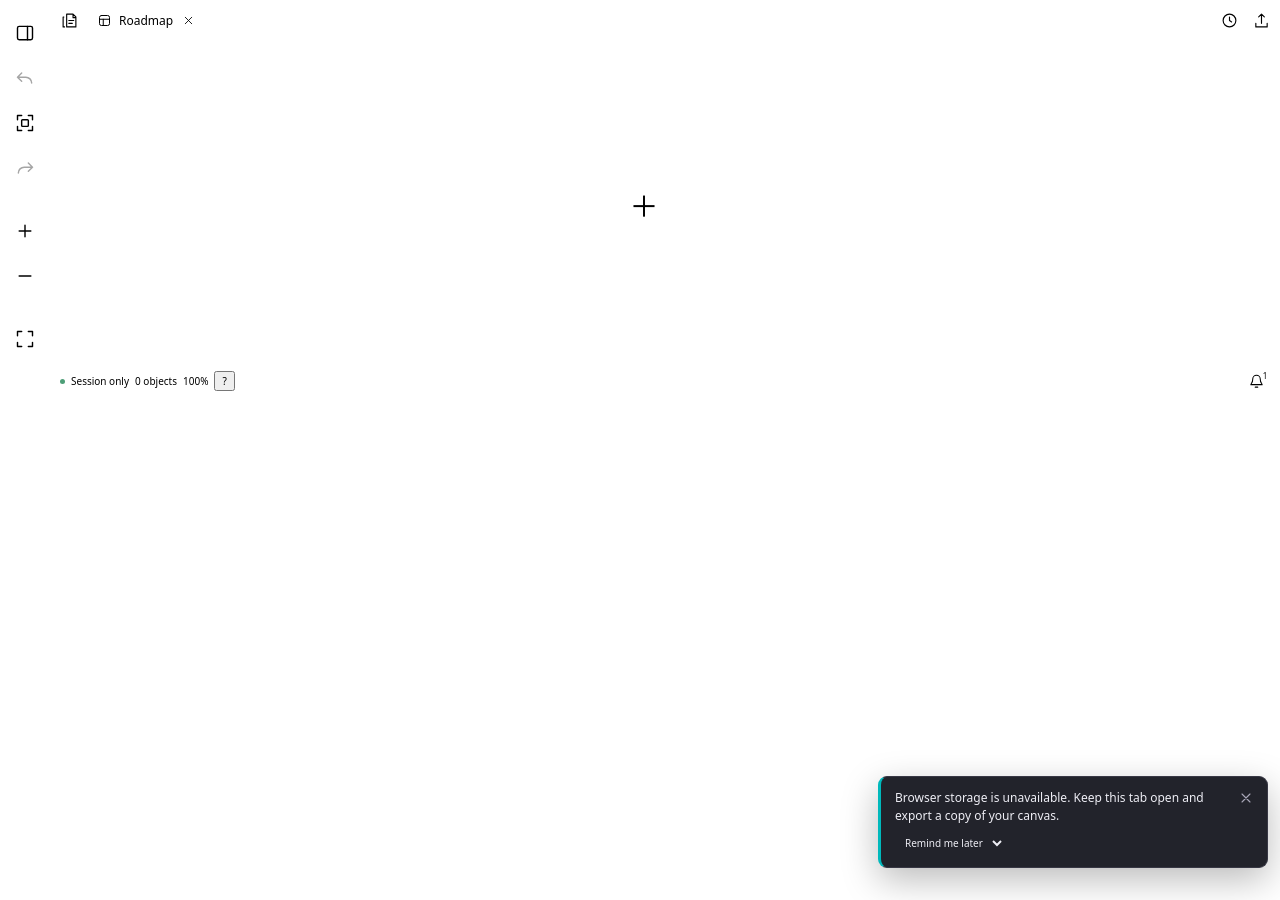
smart physical file saving in the workspace › keeps Save options available before a file destination exists and removes redundant toolbar icons
Check: the tab "Roadmap" is shown, box x1=92 y1=0 x2=178 y2=42
Click the button named "Open right panel".
click(25, 33)  # box x1=6 y1=14 x2=44 y2=52
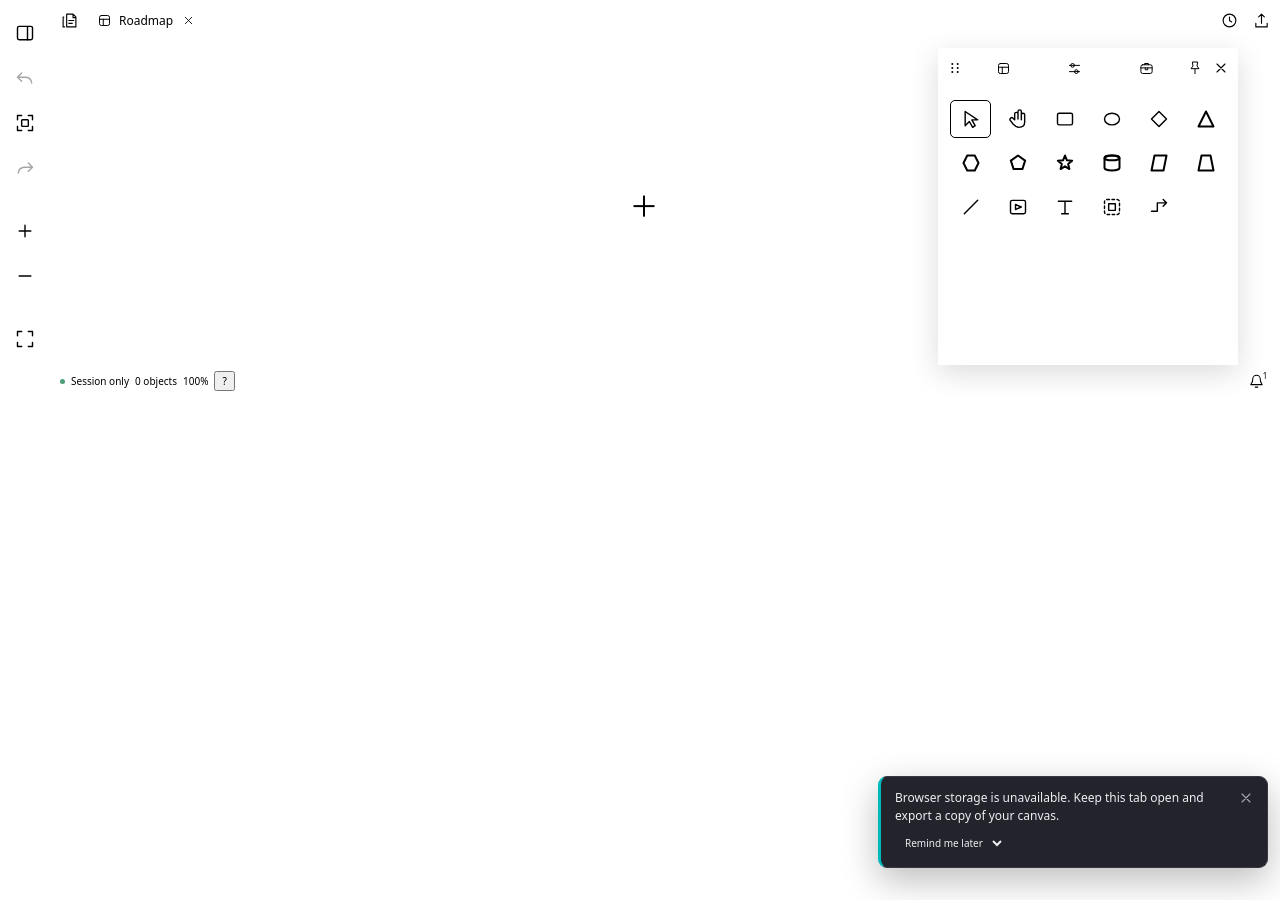
Check: the button "Save" is not shown
Click the button named "Save options".
click(1229, 20)  # box x1=1214 y1=5 x2=1244 y2=35
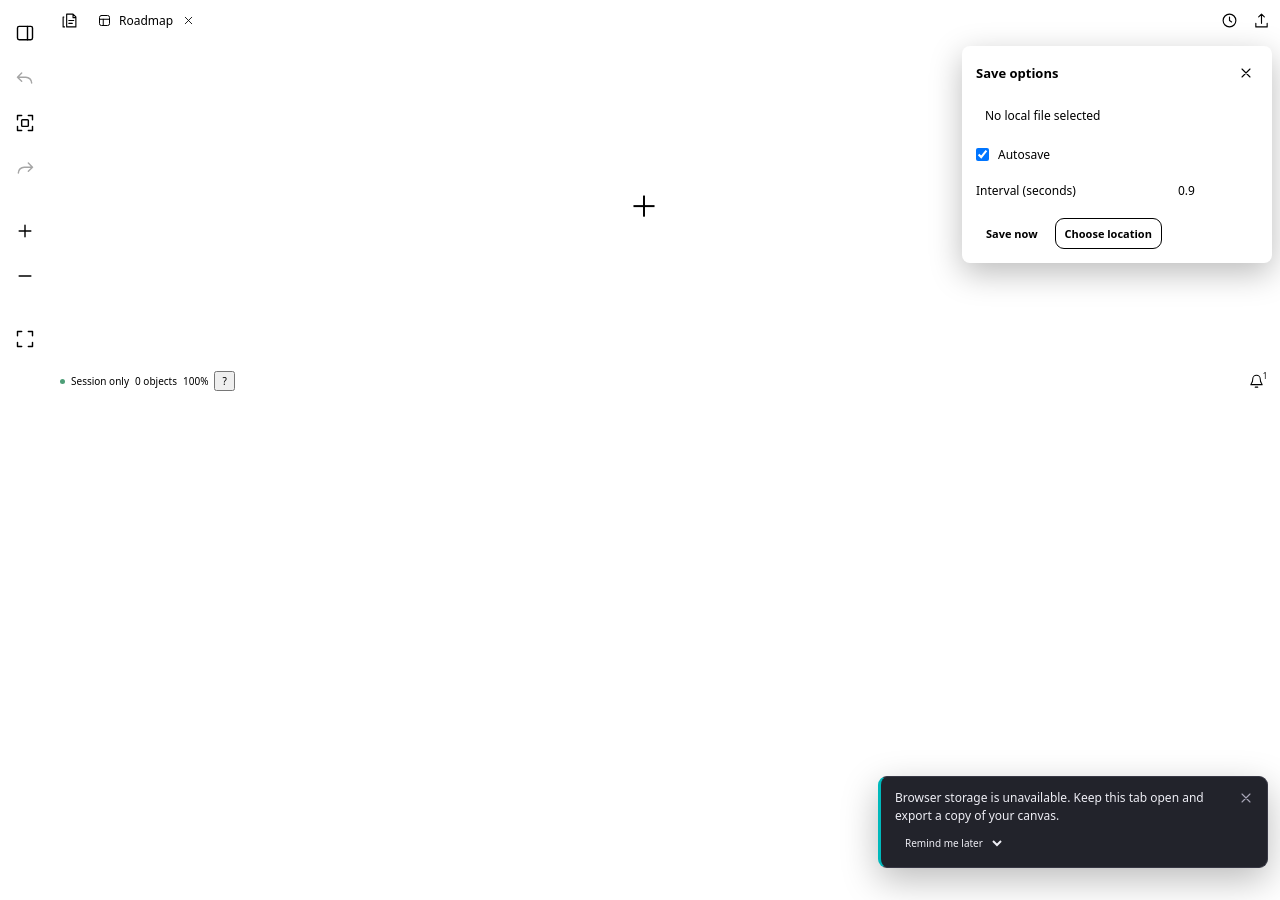
Check: the text named "Save destination" reads "No local file selected", box x1=985 y1=107 x2=1100 y2=124
Check: the button "Choose location" is enabled, box x1=1055 y1=218 x2=1162 y2=249
